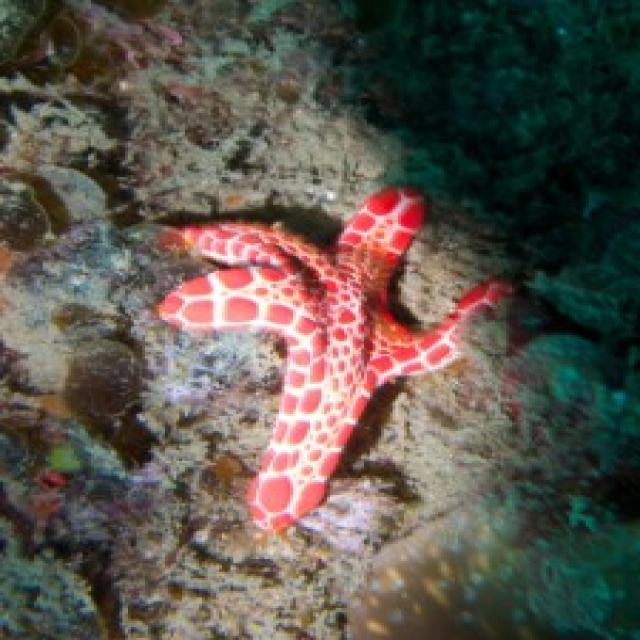Starfish: (132, 163, 516, 532)
